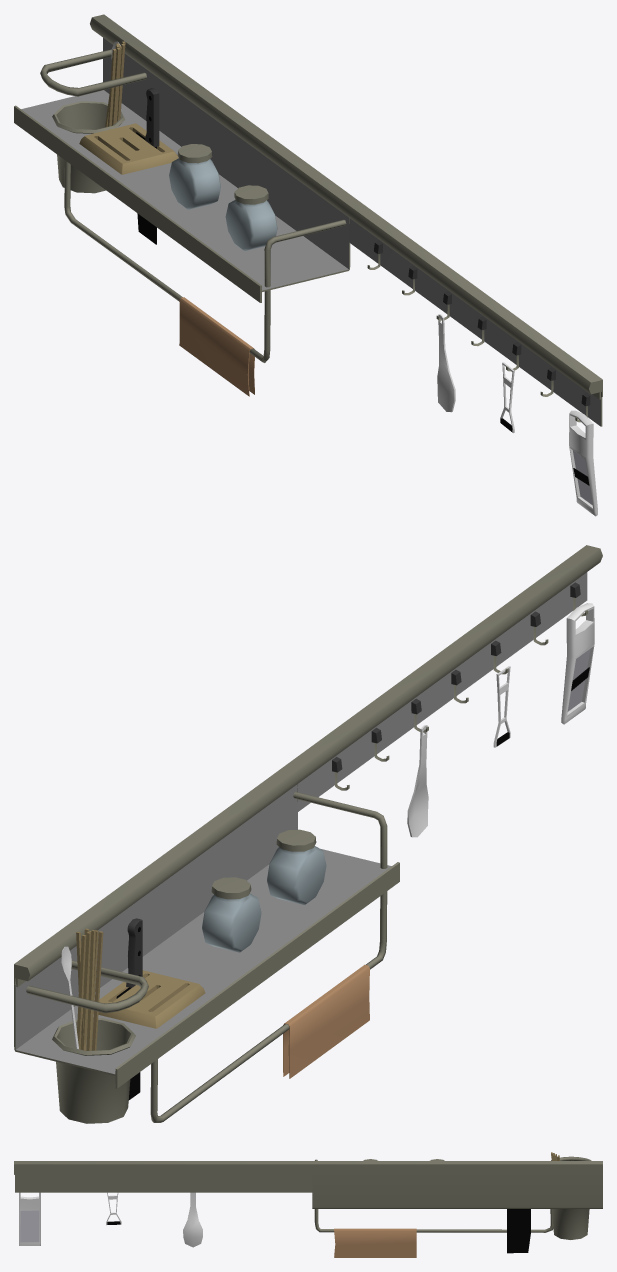
File: CNHUIBAOAC103112.FBX
The picture shows the model from 3 angles, top to bottom: view 1: azimuth 30°, elevation 25°; view 2: azimuth 150°, elevation 25°; view 3: azimuth 270°, elevation 25°; orthographic projection. The views are drawn at different scales.
Visible parts, largest first — view 1: CNHUIBAOAC103112; view 2: CNHUIBAOAC103112; view 3: CNHUIBAOAC103112.
Part boxes in pixels (<box>): CNHUIBAOAC103112: <box>14,14,602,516</box>; CNHUIBAOAC103112: <box>14,545,602,1123</box>; CNHUIBAOAC103112: <box>14,1152,602,1257</box>.
Bounding box in the file's own units: 12.5 × 120 × 26.7.
